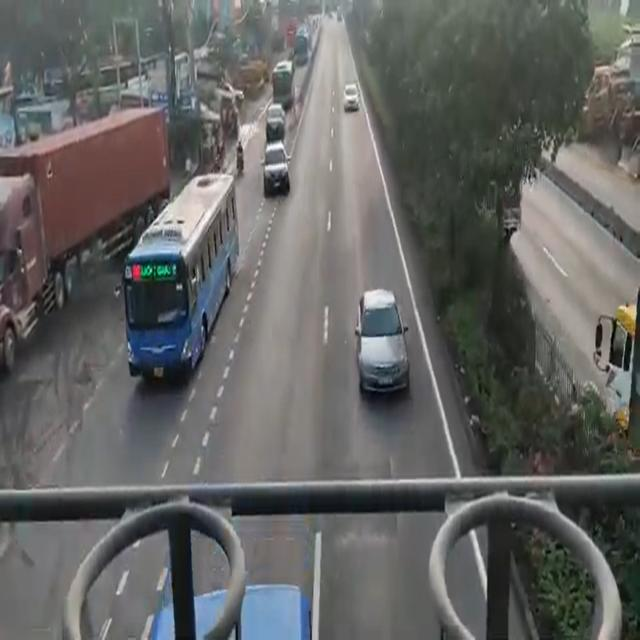bus: (113, 167, 235, 386), (271, 62, 298, 105)
car: (358, 281, 408, 398), (260, 141, 292, 202), (265, 101, 285, 136), (342, 78, 358, 119)
truck: (0, 102, 165, 326)
